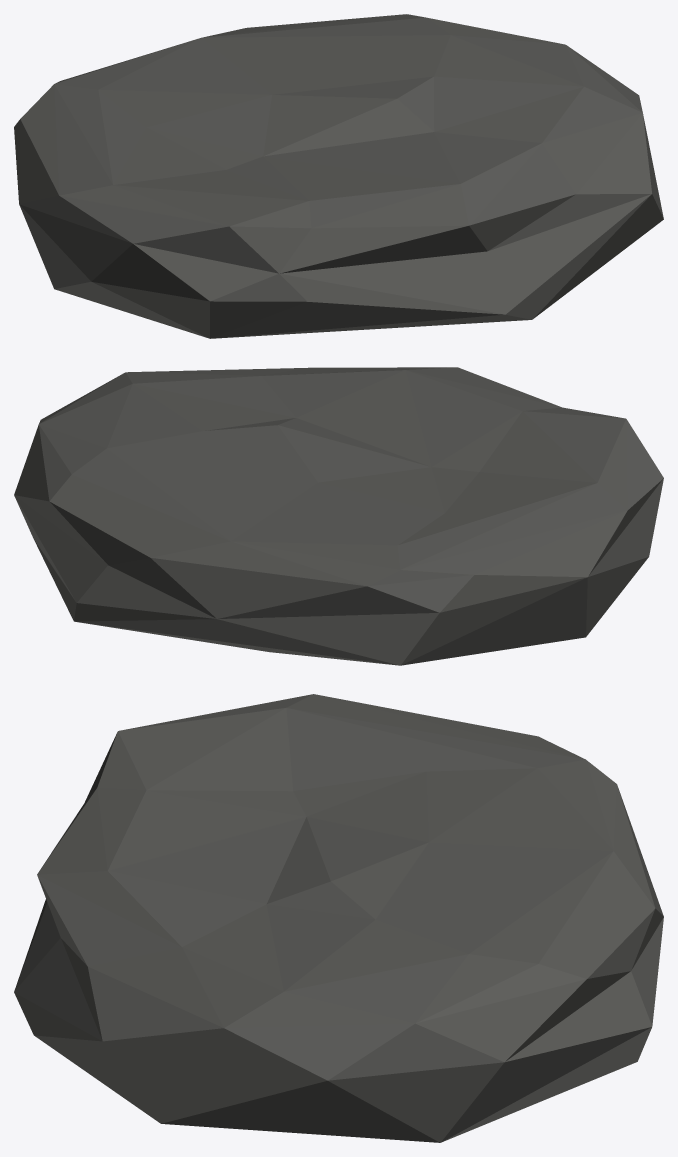
The model's file is SM_Envr_Nature_Rock_07.fbx.
The picture shows the model from 3 angles, top to bottom: view 1: azimuth 30°, elevation 25°; view 2: azimuth 150°, elevation 25°; view 3: azimuth 270°, elevation 25°; orthographic projection. The views are drawn at different scales.
Parts seen in each view (by area): view 1: SM_Envr_Nature_Rock_07; view 2: SM_Envr_Nature_Rock_07; view 3: SM_Envr_Nature_Rock_07.
Boxes of the visible parts, x1=… form: SM_Envr_Nature_Rock_07: x1=14, y1=14, x2=663, y2=338; SM_Envr_Nature_Rock_07: x1=14, y1=367, x2=663, y2=665; SM_Envr_Nature_Rock_07: x1=14, y1=694, x2=663, y2=1142.
Size of the model in its own units: 267 by 58.41 by 221.
